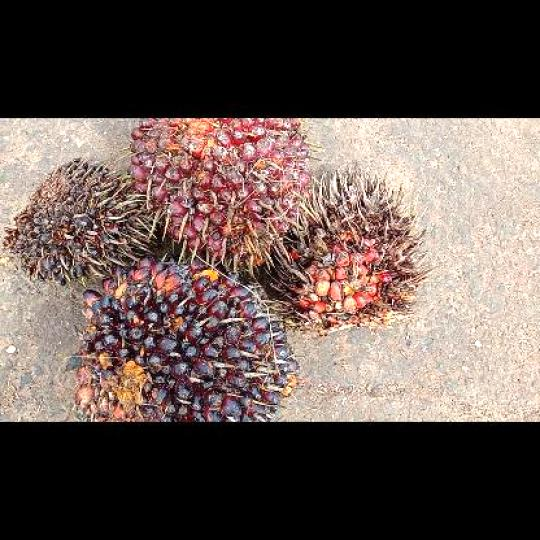kurang masak: (72, 252, 302, 420)
masak: (124, 119, 310, 278)
terlalu masak: (264, 163, 434, 338)
